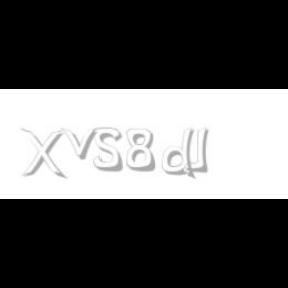8: (126, 128, 156, 172)
J: (184, 128, 208, 172)
S: (94, 128, 124, 172)
X: (20, 128, 64, 180)
d: (162, 128, 199, 180)
v: (61, 128, 101, 160)
